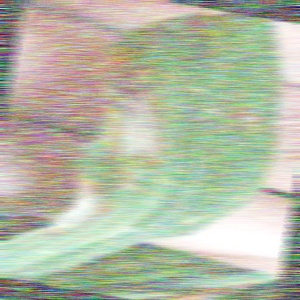Brown_Spot: (89, 54, 171, 181), (41, 163, 120, 247), (231, 98, 275, 136)
